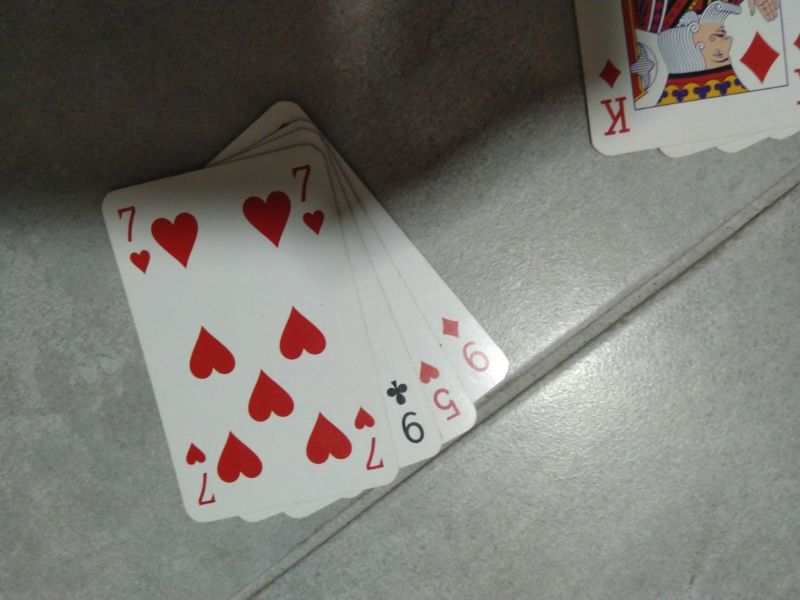5h: (413, 354, 466, 427)
7h: (107, 197, 162, 277), (287, 160, 340, 243), (175, 436, 228, 513), (345, 403, 395, 477)
9c: (379, 374, 434, 448)
9d: (428, 308, 503, 378)
Kd: (580, 50, 645, 144)
